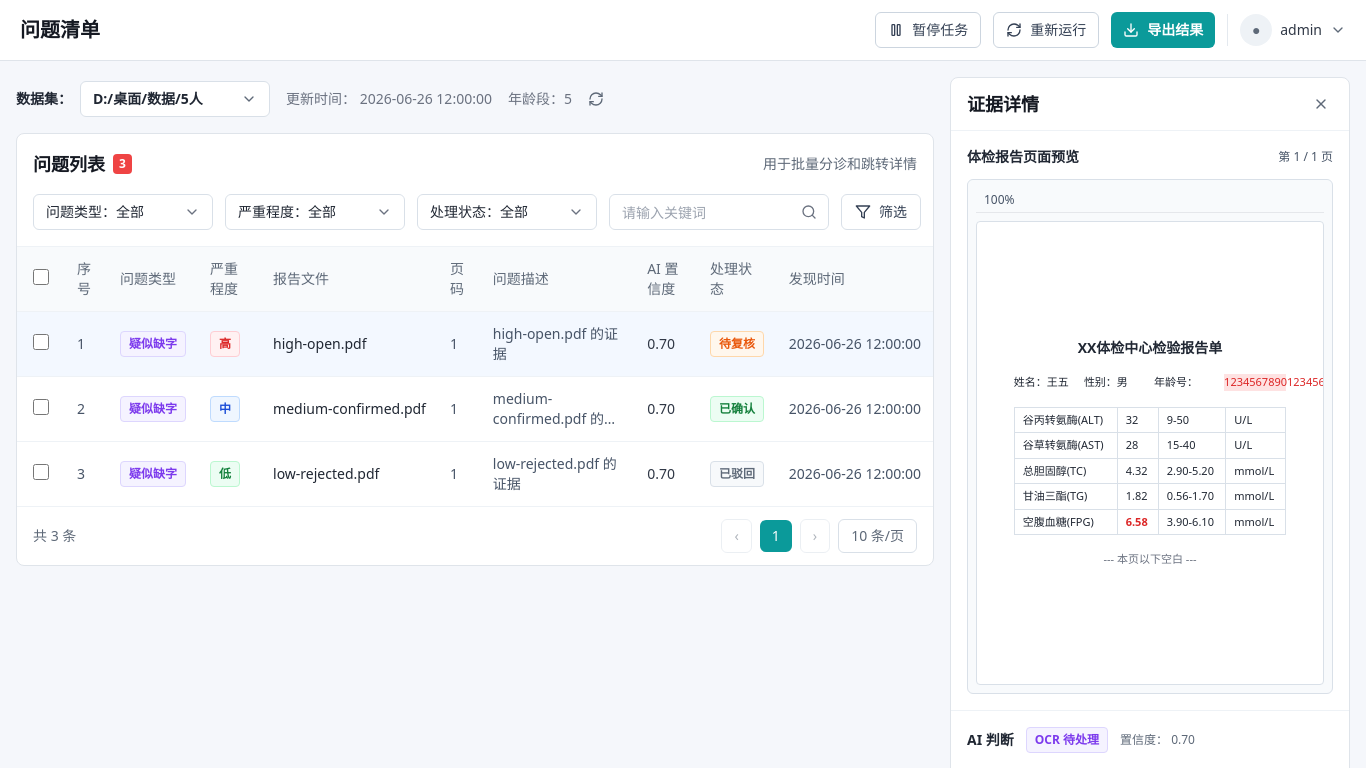
Test: quality workspace interactions › uses styled filter menus instead of native select dropdowns
The width and height of the screenshot is (1366, 768).
Expected: the button "筛选" is shown, [841,194,921,230]
Click the button "问题类型：全部" at (123, 212), box [33,194,213,230]
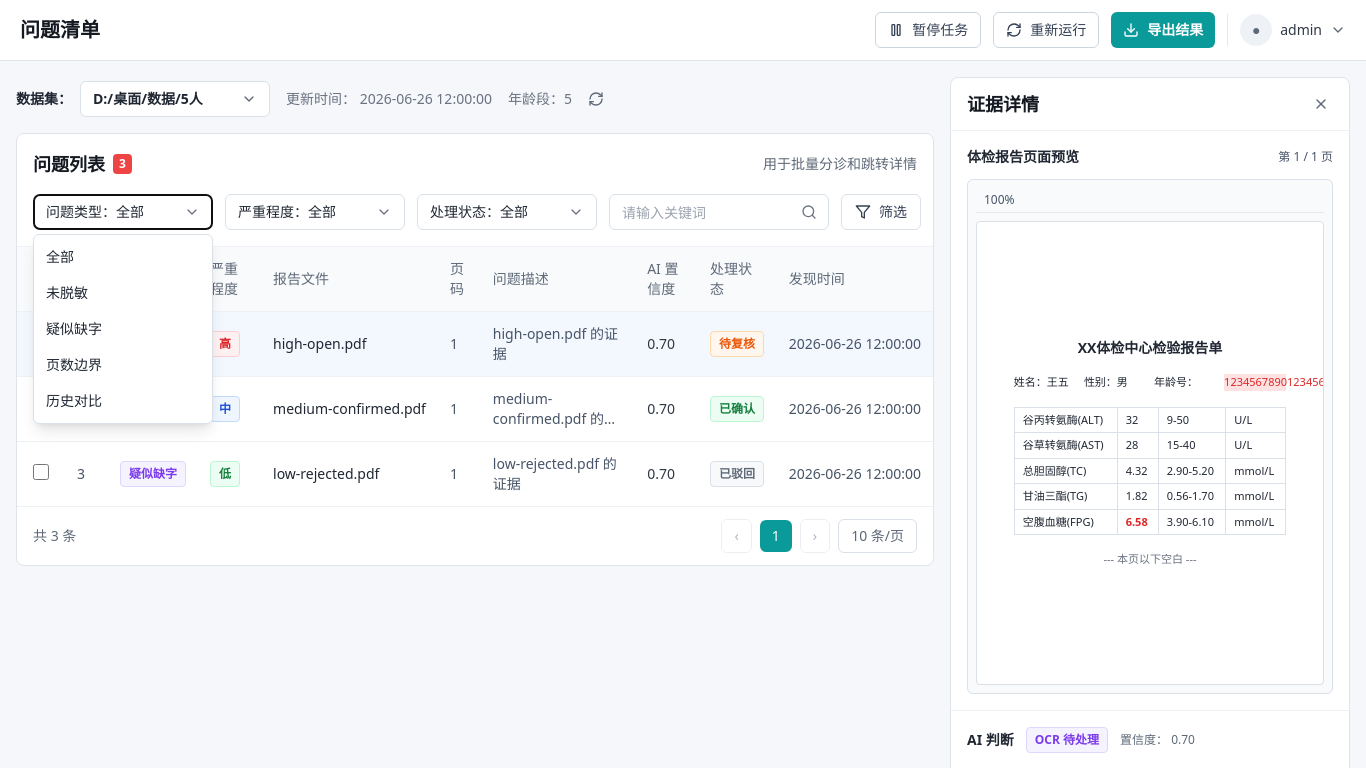
Click the menu item "疑似缺字" at (123, 329), box [34,311,212,347]
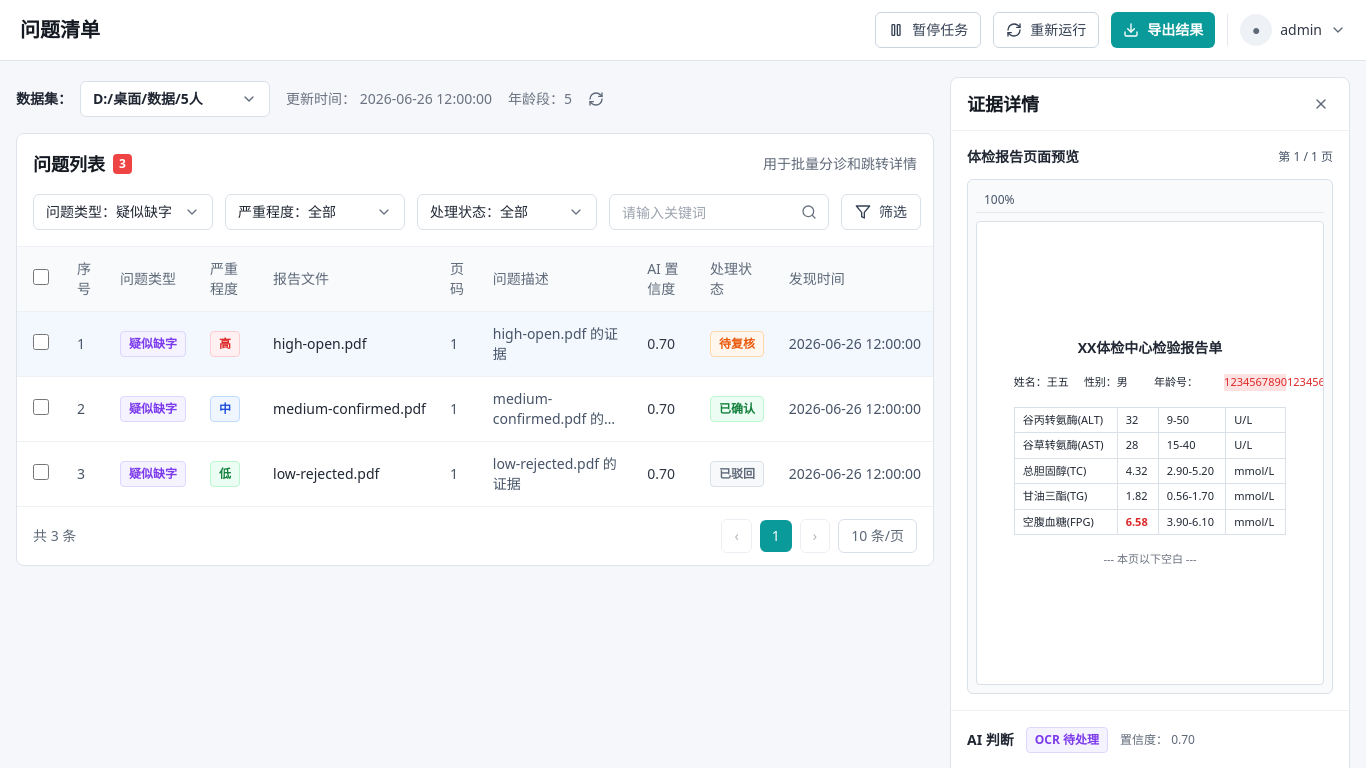
Now the button "问题类型：疑似缺字" is shown, box [33,194,213,230]
Click the button "严重程度：全部" at (315, 212), box [225,194,405,230]
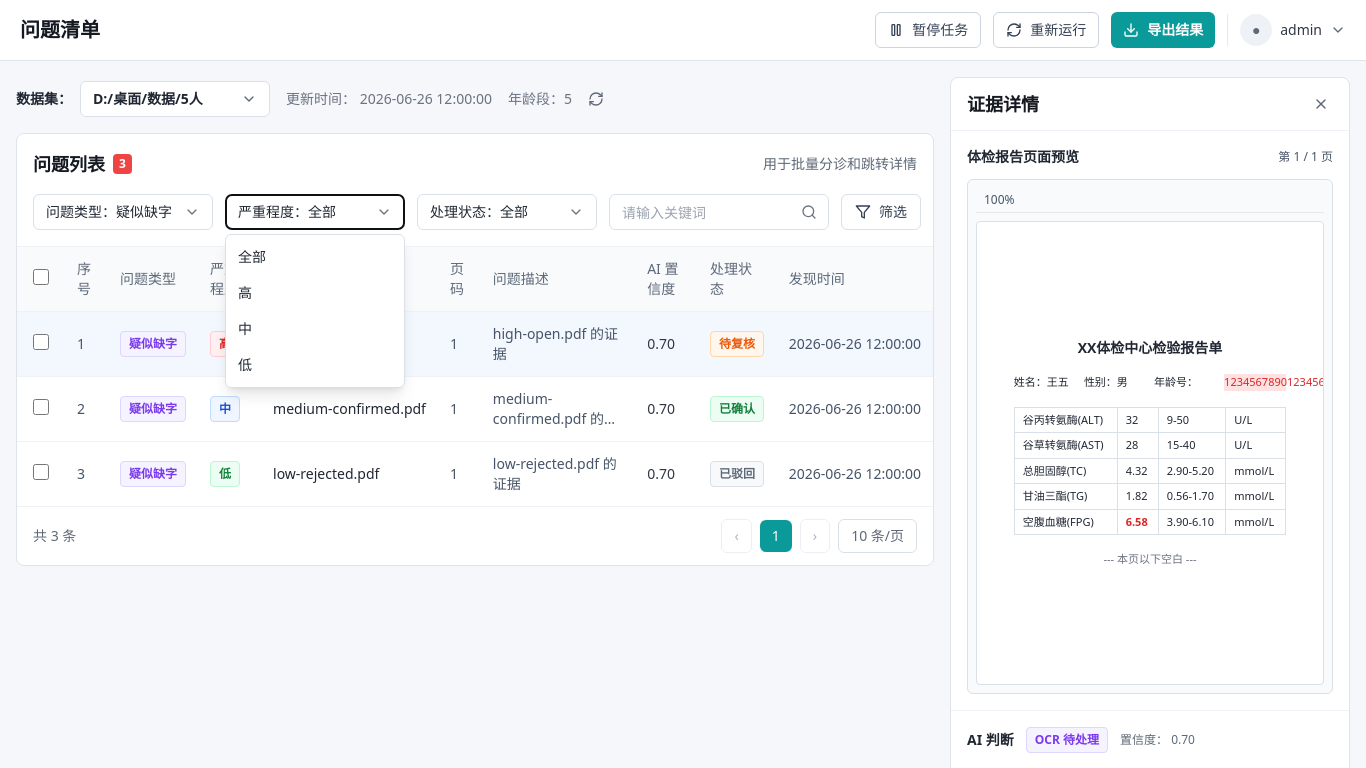
Click the menu item "高" at (315, 293), box [226,275,404,311]
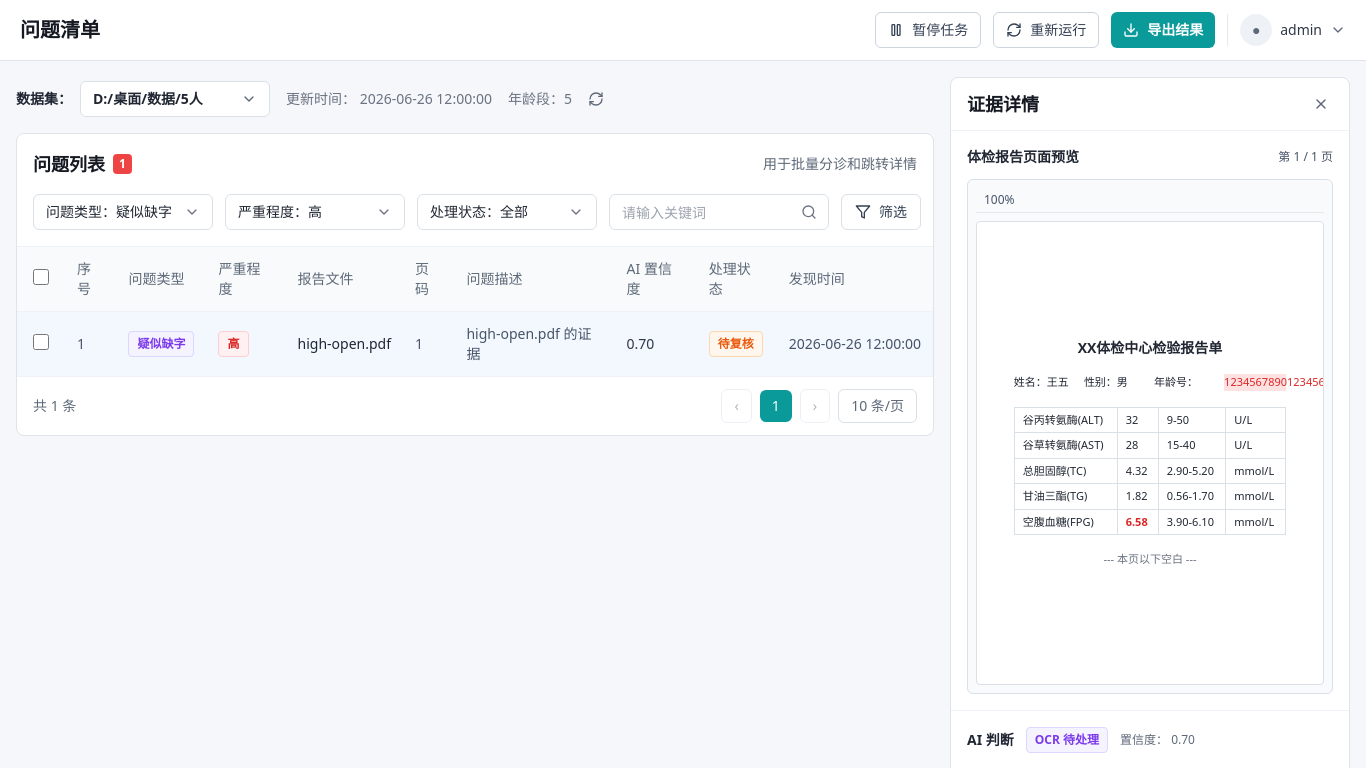
Expected: the button "high-open.pdf" is shown, [298,334,391,354]
Now the button "medium-confirmed.pdf" is gone
Click the button "处理状态：全部" at (507, 212), box [417,194,597,230]
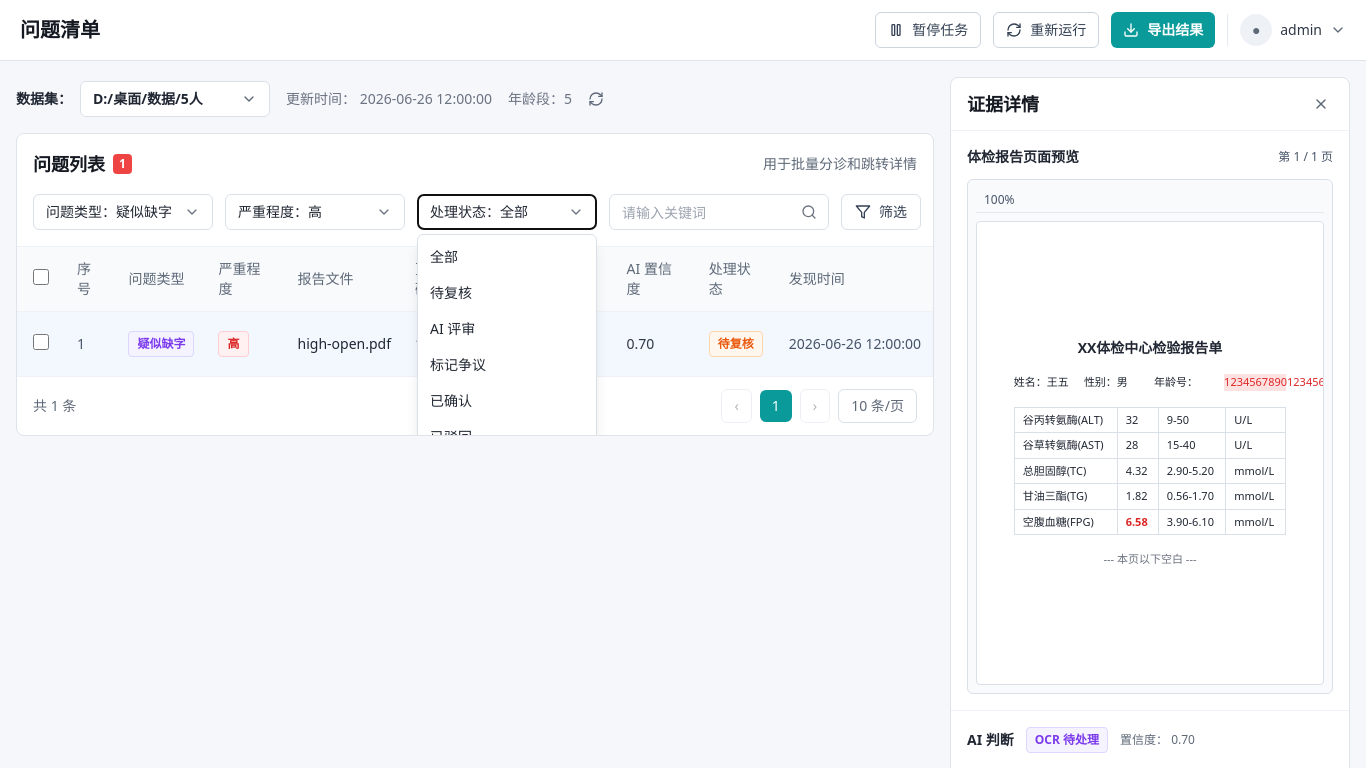
Click the menu item "已确认" at (507, 401), box [418,383,596,419]
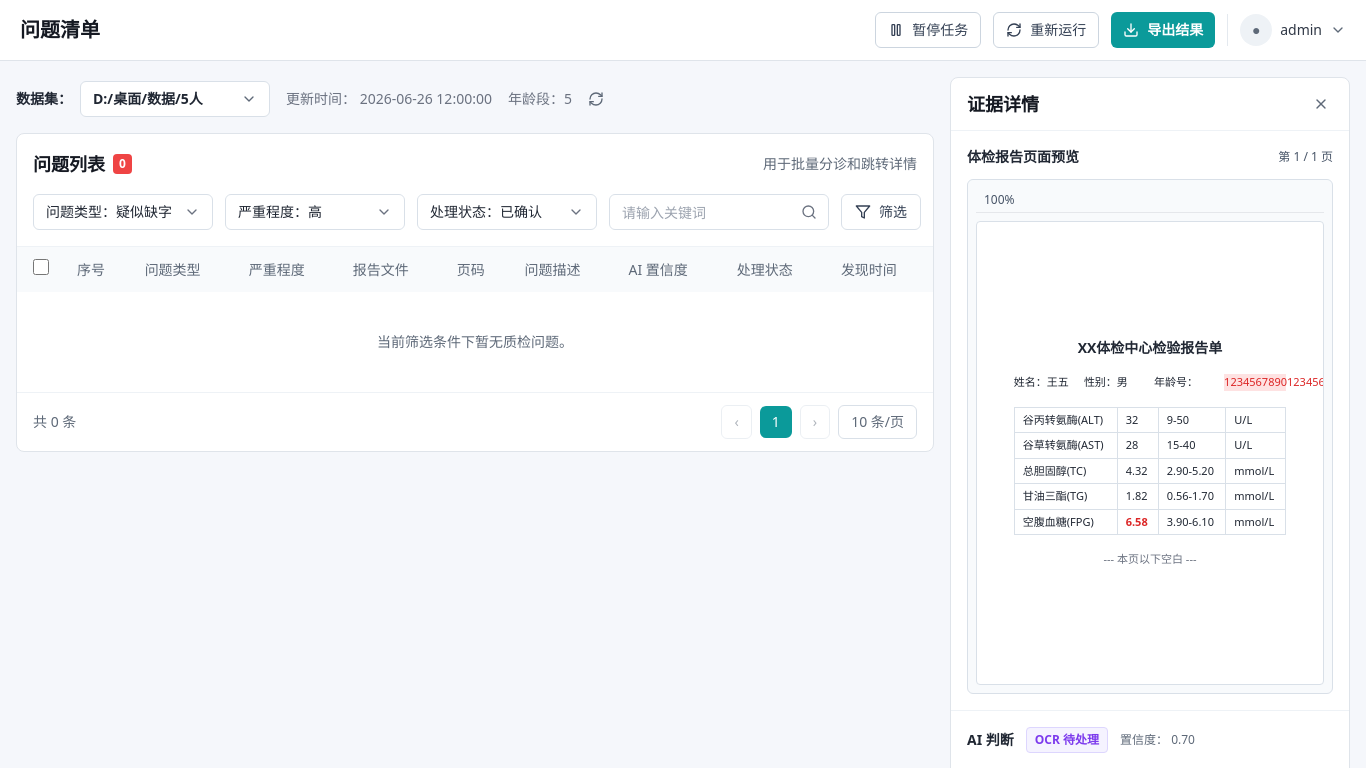
Now the text "当前筛选条件下暂无质检问题。" is shown, box [17,292,933,392]
